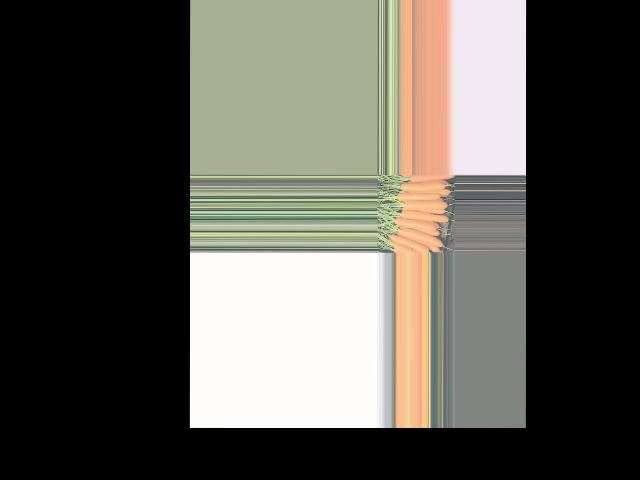carrot: (390, 238, 433, 247)
